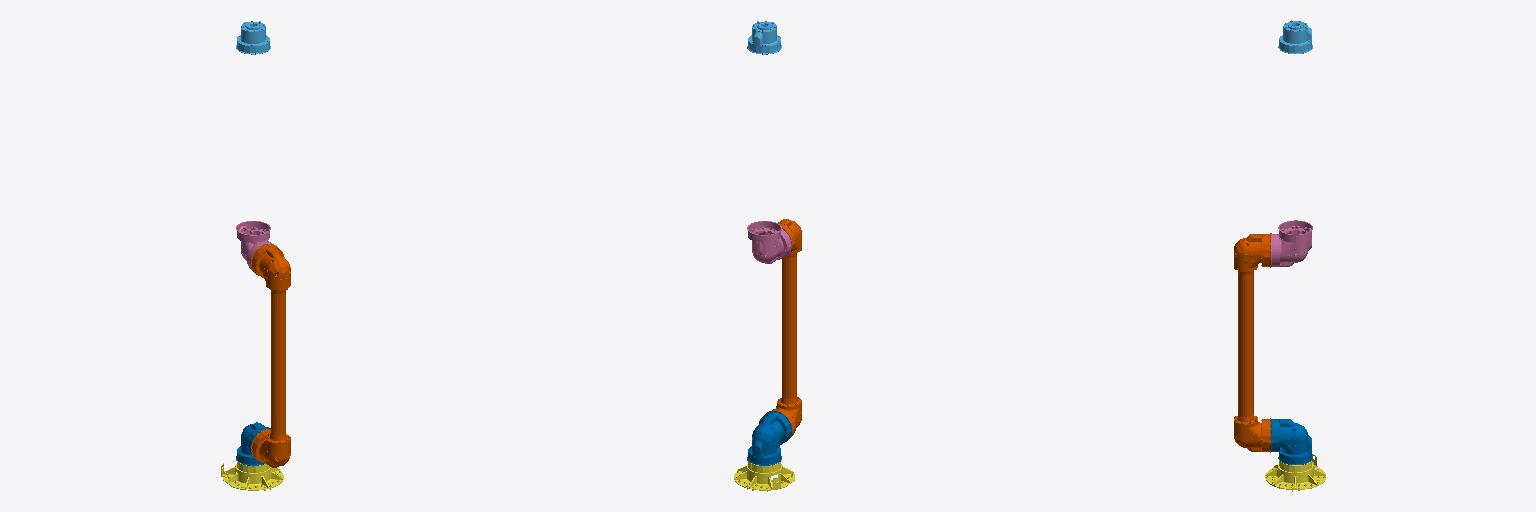
The robot description file, URDF, robot "VISPA":
<robot name="VISPA">

  <!-- Standard ROS(-industrial) frames -->
  <!-- inertials not needed here -->
  <link name="base_link"/>
  <link name="base"/>
  <link name="world"/>

  <link name="Link_0">
    <visual>
      <geometry>
        <mesh filename="package://vispa/meshes/Link0-DHReference-PublicRelease.stl"/>
      </geometry>
    </visual>
    <inertial>
      <mass value="0.627"/>
      <inertia ixx="0.00281845585208" ixy="0" ixz="0" iyy="0.00281883333333" iyz="0" izz="0.00379978918542"/>
      <origin xyz="0 0 0.0"/>
    </inertial>
  </link>

  <link name="Link_1">
    <visual>
      <geometry>
        <mesh filename="package://vispa/meshes/Link1-DHReference-PublicRelease.stl"/>
      </geometry>
    </visual>
    <inertial>
      <mass value="2.328"/>
      <inertia ixx="0.012" ixy="0" ixz="0" iyy="0.007" iyz="0.003" izz="0.008"/>
      <origin xyz="0 -0.029 -0.043"/>
    </inertial>
  </link>

  <link name="Link_2">
    <visual>
      <geometry>
        <mesh filename="package://vispa/meshes/Link2-DHReference-PublicRelease.stl"/>
      </geometry>
    </visual>
    <inertial>
      <mass value="3.995"/>
      <inertia ixx="0.010 " ixy="0" ixz="0" iyy="0.578" iyz="0" izz="0.574"/>
      <origin xyz="0.4 0 0.142"/>
    </inertial>
  </link>

  <link name="Link_3">
    <visual>
      <geometry>
        <mesh filename="package://vispa/meshes/Link3-DHReference-PublicRelease.stl"/>
      </geometry>
    </visual>
    <inertial>
      <mass value="2.328"/>
      <inertia ixx="0.012" ixy="0" ixz="0" iyy="0.008" iyz="0.003" izz="0.007"/>
      <origin xyz="0 0.043 0.029"/>
    </inertial>
  </link>

  <link name="Link_4">
    <visual>
      <geometry>
        <mesh filename="package://vispa/meshes/Link4-DHReference-PublicRelease.stl"/>
      </geometry>
    </visual>
    <inertial>
      <mass value="3.157"/>
      <inertia ixx="0.199" ixy="0" ixz="0" iyy="0.193" iyz="0.01" izz="0.01"/>
      <origin xyz="0 -0.043 -0.210"/>
    </inertial>
  </link>

  <link name="Link_5">
    <visual>
      <geometry>
        <mesh filename="package://vispa/meshes/Link5-DHReference-PublicRelease.stl"/>
      </geometry>
    </visual>
    <inertial>
      <mass value="2.695"/>
      <inertia ixx="0.029" ixy="0" ixz="0" iyy="0.006" iyz="-0.001" izz="0.027"/>
      <origin xyz="0 0.125 -0.007"/>
    </inertial>
  </link>

  <link name="Link_6">
    <visual>
      <geometry>
        <mesh filename="package://vispa/meshes/Link6-DHReference-PublicRelease.stl"/>
      </geometry>
    </visual>
    <inertial>
      <mass value="0.924"/>
      <inertia ixx="0.002" ixy="0" ixz="0" iyy="0.002" iyz="0" izz="0.001"/>
      <origin xyz="0 0 0.0"/>
    </inertial>
  </link>

   <!-- Standard ROS(-industrial) and Gazebo joints -->
  <joint name="base_link-link0" type="fixed">
    <parent link="base_link"/>
    <child link="Link_0"/>
    <!-- <origin xyz="0 0 0" rpy="0 0 ${2*C_1_DEGREE}"/> -->
  </joint>
  <joint name="base_link-base" type="fixed">
    <parent link="base_link"/>
    <child link="base"/>
    <!-- <origin xyz="0 0 0" /> -->
  </joint>
  <joint name="world-base_link" type="fixed">
    <parent link="world"/>
    <child link="base_link"/>
    <!-- <origin xyz="0 0 0" /> -->
  </joint>

  <joint name="Joint_1" type="revolute">
    <parent link="Link_0"/>
    <child link="Link_1"/>
    <axis xyz="0 0 1"/>
    <limit effort="50" lower="-3.14149265359" upper="3.14149265359" velocity="0.09395689"/>
    <origin xyz="0 0 0.18" rpy="0 0 0"/> 
  </joint>

  <joint name="Joint_2" type="revolute">
    <parent link="Link_1"/>
    <child link="Link_2"/>
    <axis xyz="0 0 1"/>
    <limit effort="50" lower="-3.14149265359" upper="3.14149265359" velocity="0.09395689"/>
    <origin xyz="0 0 0" rpy="1.57079632679 -1.57079632679 0"/> 
  </joint>

  <joint name="Joint_3" type="revolute">
    <parent link="Link_2"/>
    <child link="Link_3"/>
    <axis xyz="0 0 1"/>
    <limit effort="50" lower="-3.14149265359" upper="3.14149265359" velocity="0.09395689"/>
    <origin xyz="0.8 0 0" rpy="0 0 -1.57079632679"/> 
  </joint>

  <joint name="Joint_4" type="revolute">
    <parent link="Link_3"/>
    <child link="Link_4"/>
    <axis xyz="0 0 1"/>
    <limit effort="50" lower="-3.14149265359" upper="3.14149265359" velocity="0.09395689"/>
    <origin xyz="0 0.65 0" rpy="-1.57079632679 0 0"/> 
  </joint>

  <joint name="Joint_5" type="revolute">
    <parent link="Link_4"/>
    <child link="Link_5"/>
    <axis xyz="0 0 1"/>
    <limit effort="50" lower="-3.14149265359" upper="3.14149265359" velocity="0.09395689"/>
    <origin xyz="0 0 0" rpy="1.57079632679 0 0"/> 
  </joint>

  <joint name="Joint_6" type="revolute">
    <parent link="Link_5"/>
    <child link="Link_6"/>
    <axis xyz="0 0 1"/>
    <limit effort="50" lower="-3.14149265359" upper="3.14149265359" velocity="0.09395689"/>
    <origin xyz="0 0.325 0" rpy="-1.57079632679 0 0"/> 
  </joint>

</robot>

--- Facts derived from the render (not from the file) ---
Views: 3 orthographic renders of the robot side by side, from view 1: azimuth 30°, elevation 25°; view 2: azimuth 150°, elevation 25°; view 3: azimuth 270°, elevation 25°.
Model VISPA with 10 links and 9 joints (6 revolute, 3 fixed), rooted at world, posed all joints at 0.
Visible links, largest first — view 1: Link_2, Link_0, Link_3, Link_6, Link_1; view 2: Link_2, Link_1, Link_3, Link_0, Link_6; view 3: Link_2, Link_3, Link_1, Link_0, Link_6.
Link boxes in pixels (x1,y1,x2,y2): Link_2: (251,244,290,467); Link_0: (221,460,283,490); Link_3: (236,221,271,270); Link_6: (236,21,270,54); Link_1: (236,422,270,465); Link_2: (767,219,801,437); Link_1: (747,411,791,465); Link_3: (747,221,791,263); Link_0: (734,460,794,491); Link_6: (747,21,781,54); Link_2: (1234,233,1270,452); Link_3: (1271,220,1312,266); Link_1: (1271,419,1312,464); Link_0: (1265,454,1325,491); Link_6: (1278,20,1312,53).
Bounding box of the posed robot: 0.235 × 0.3635 × 1.96 m (x, y, z).
5 mesh visuals loaded from 7 distinct referenced files (5 binary STL); not drawn: 2 (reference not matched to a file when rendering).
